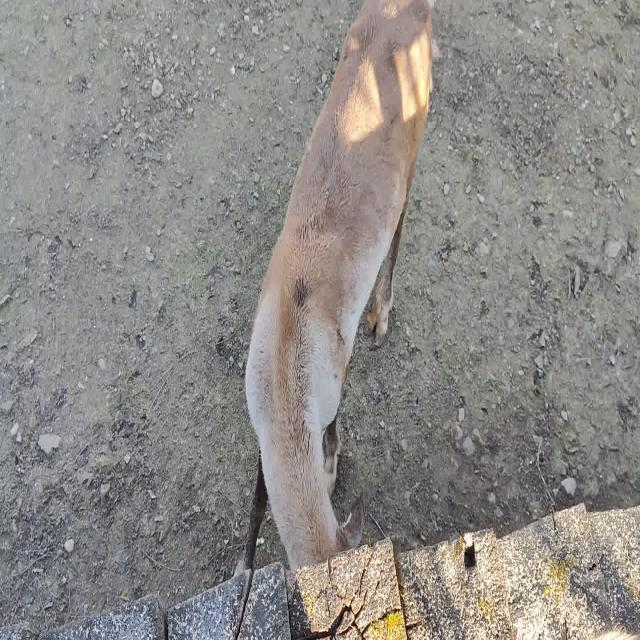deer: (233, 0, 433, 577)
